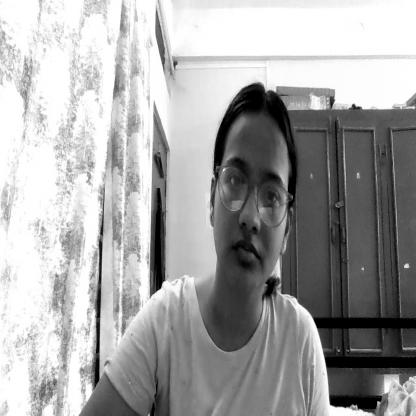Normal: (207, 76, 298, 292)
